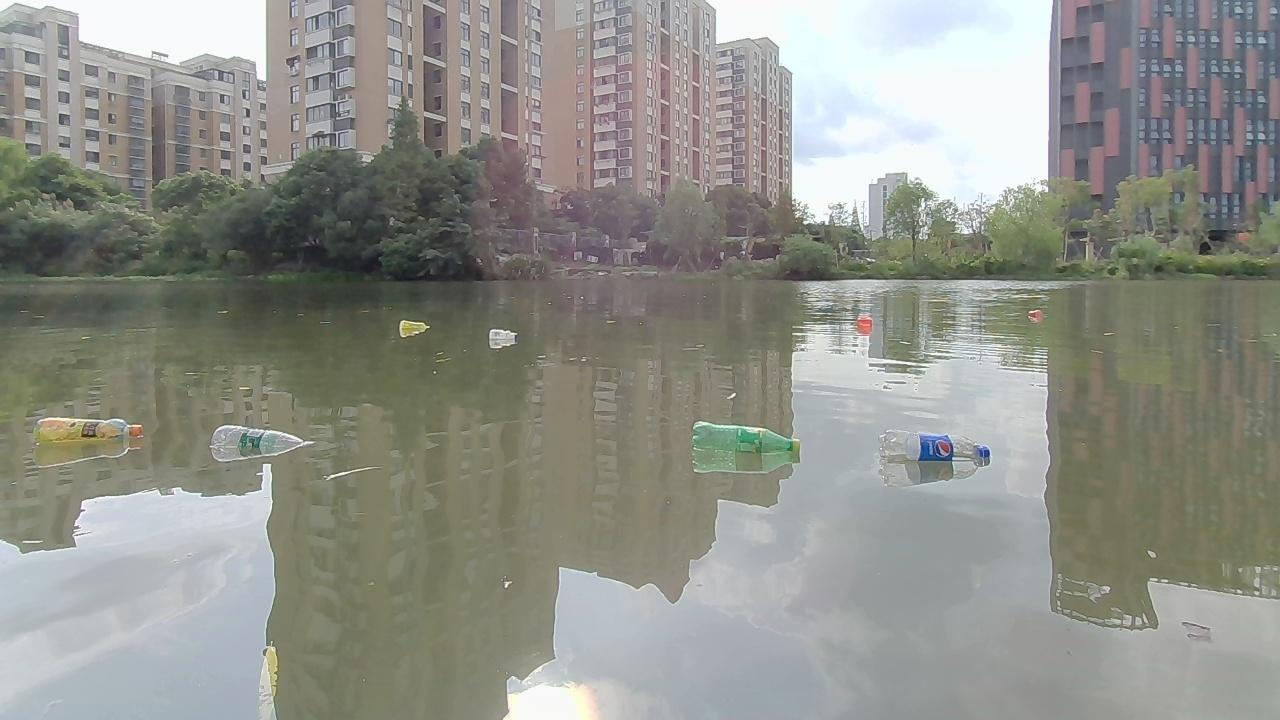bottle: (691, 419, 806, 465), (207, 421, 320, 461), (881, 429, 993, 469), (32, 412, 146, 449), (487, 325, 522, 351), (395, 318, 435, 334), (855, 311, 872, 335), (1022, 306, 1041, 322)
